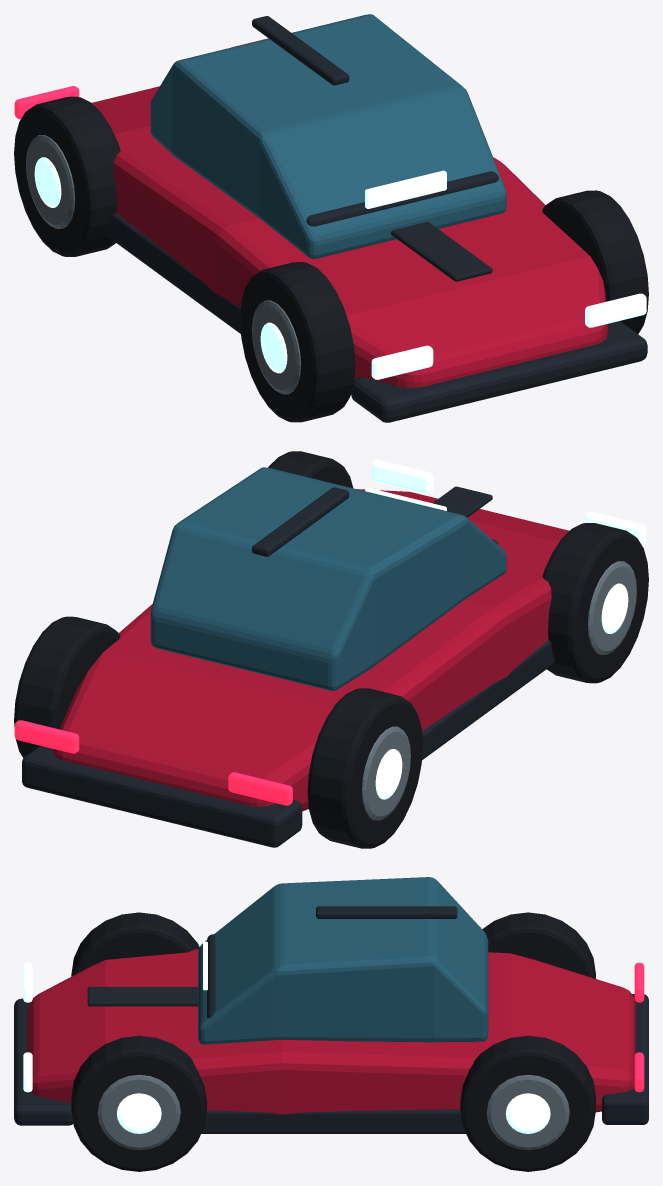
File: rainline_hero_car.glb
3 renders of one model, top to bottom at view 1: azimuth 30°, elevation 25°; view 2: azimuth 150°, elevation 25°; view 3: azimuth 270°, elevation 25°, orthographic. The views are drawn at different scales.
Parts seen in each view (by area): view 1: GlassCanopy, BodyShell, Tire, Tire.001, LowerSplitter, Tire.002, SideSkirt, HoodAccent, Wheel, Wheel.001, RoofSpine, Dashboard (+6 smaller); view 2: GlassCanopy, BodyShell, Tire.001, RearDiffuser, Tire, Tire.003, SideSkirt, Wheel, Wheel.001, RoofSpine, Tire.002, Headlight.001 (+6 smaller); view 3: BodyShell, GlassCanopy, Tire.003, Tire.002, SideSkirt.001, Tire, Tire.001, Wheel.002, Wheel.003, LowerSplitter, RearDiffuser, HoodAccent (+4 smaller).
Boxes of the visible parts, x1,y1,x2,y2 form: GlassCanopy: [150, 14, 506, 259]; BodyShell: [92, 86, 607, 387]; Tire: [240, 262, 355, 422]; Tire.001: [14, 96, 120, 256]; LowerSplitter: [351, 321, 647, 422]; Tire.002: [542, 190, 648, 333]; SideSkirt: [108, 213, 240, 333]; HoodAccent: [391, 221, 492, 281]; Wheel: [252, 300, 300, 394]; Wheel.001: [26, 135, 74, 228]; RoofSpine: [252, 16, 349, 85]; Dashboard: [306, 171, 498, 226]; GlassCanopy: [150, 467, 506, 690]; BodyShell: [53, 489, 569, 811]; Tire.001: [307, 688, 422, 848]; RearDiffuser: [22, 745, 302, 847]; Tire: [542, 523, 648, 683]; Tire.003: [14, 616, 120, 757]; SideSkirt: [422, 640, 554, 759]; Wheel: [588, 561, 636, 654]; Wheel.001: [362, 726, 410, 820]; RoofSpine: [252, 487, 349, 556]; Tire.002: [268, 451, 353, 488]; Headlight.001: [371, 459, 433, 493]; BodyShell: [27, 949, 635, 1114]; GlassCanopy: [198, 877, 488, 1044]; Tire.003: [460, 1035, 595, 1171]; Tire.002: [71, 1035, 206, 1171]; SideSkirt.001: [201, 1109, 465, 1133]; Tire: [71, 912, 199, 976]; Tire.001: [482, 912, 595, 978]; Wheel.002: [97, 1075, 180, 1150]; Wheel.003: [486, 1075, 569, 1150]; LowerSplitter: [14, 998, 73, 1125]; RearDiffuser: [602, 994, 648, 1124]; HoodAccent: [87, 987, 197, 1006].
Size of the model in its own units: 2.33 by 1.46 by 4.31.
